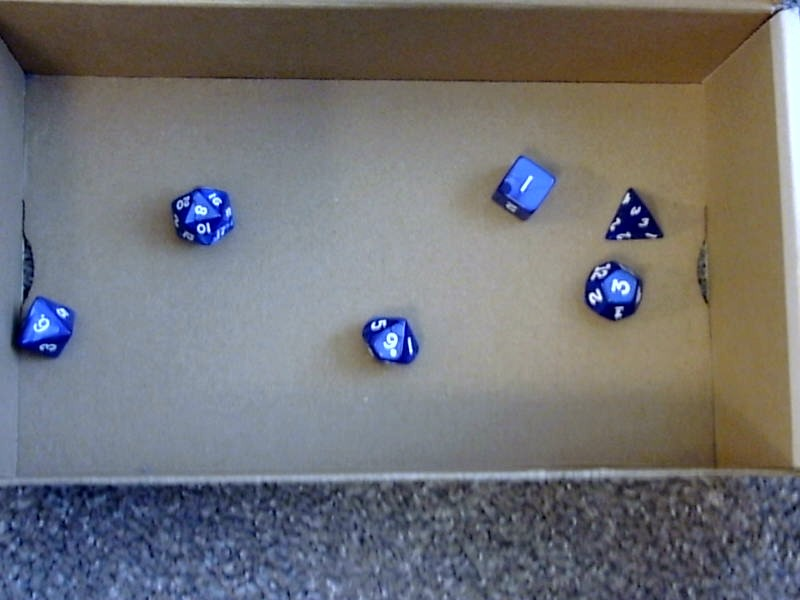d10 9: (350, 309, 422, 371)
d12 3: (584, 259, 643, 323)
d20 8: (163, 177, 238, 251)
d4 3: (600, 184, 667, 243)
d6 1: (488, 147, 556, 225)
d8 6: (17, 297, 80, 361)
